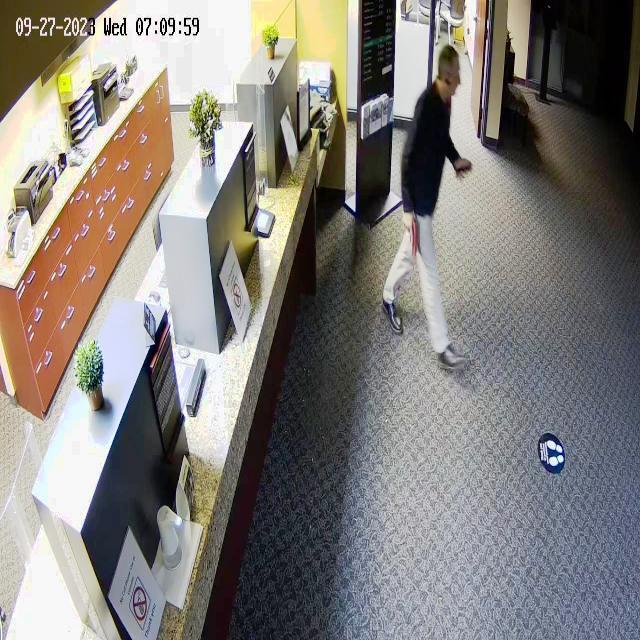Gun: (393, 202, 426, 269)
